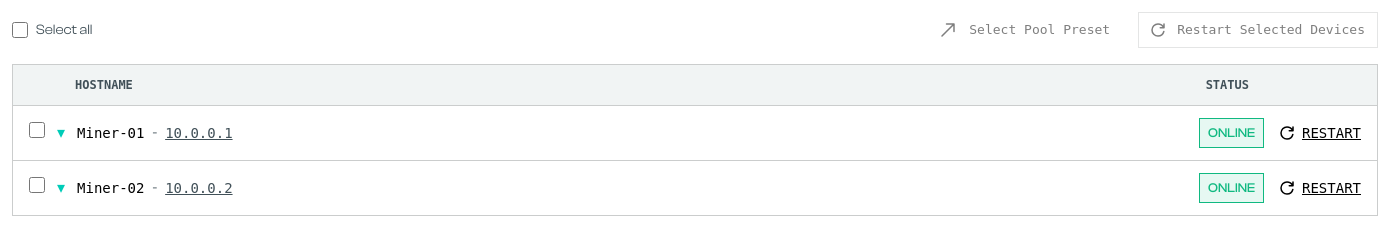
DeviceSettingsAccordion › enables bulk actions only when multiple devices are selected
Expected: the button "Select Pool Preset" is disabled, [927, 12, 1122, 48]
Expected: the button "Restart selected devices" is disabled, [1138, 12, 1378, 48]
# Select first device.
Click the checkbox next to "miner-01" at (37, 130), box [29, 122, 45, 138]
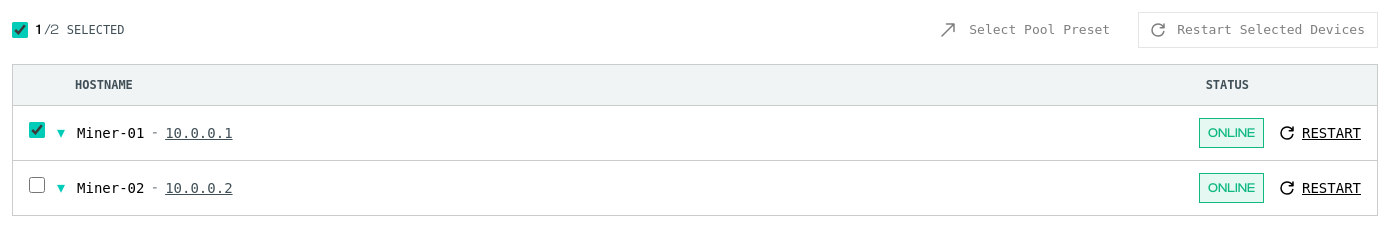
Expected: the button "Select Pool Preset" is disabled, [927, 12, 1122, 48]
Expected: the button "Restart selected devices" is disabled, [1138, 12, 1378, 48]
# Select second device.
Click the checkbox next to "miner-02" at (37, 185), box [29, 177, 45, 193]
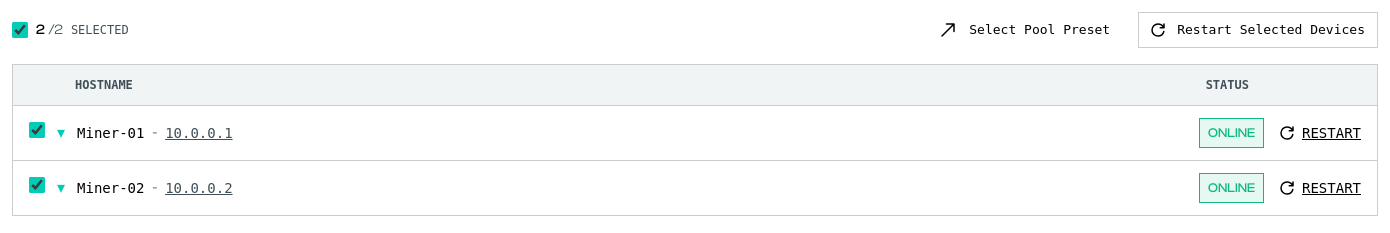
Expected: the button "Select Pool Preset" is enabled, [927, 12, 1122, 48]
Expected: the button "Restart selected devices" is enabled, [1138, 12, 1378, 48]
